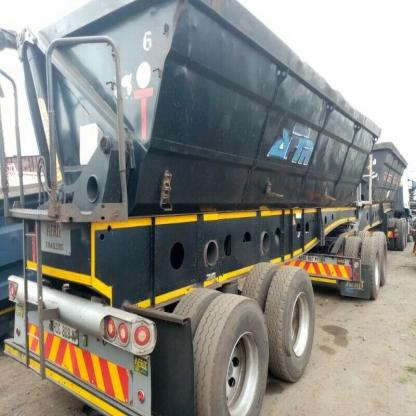dump_truck: (5, 1, 414, 415)
